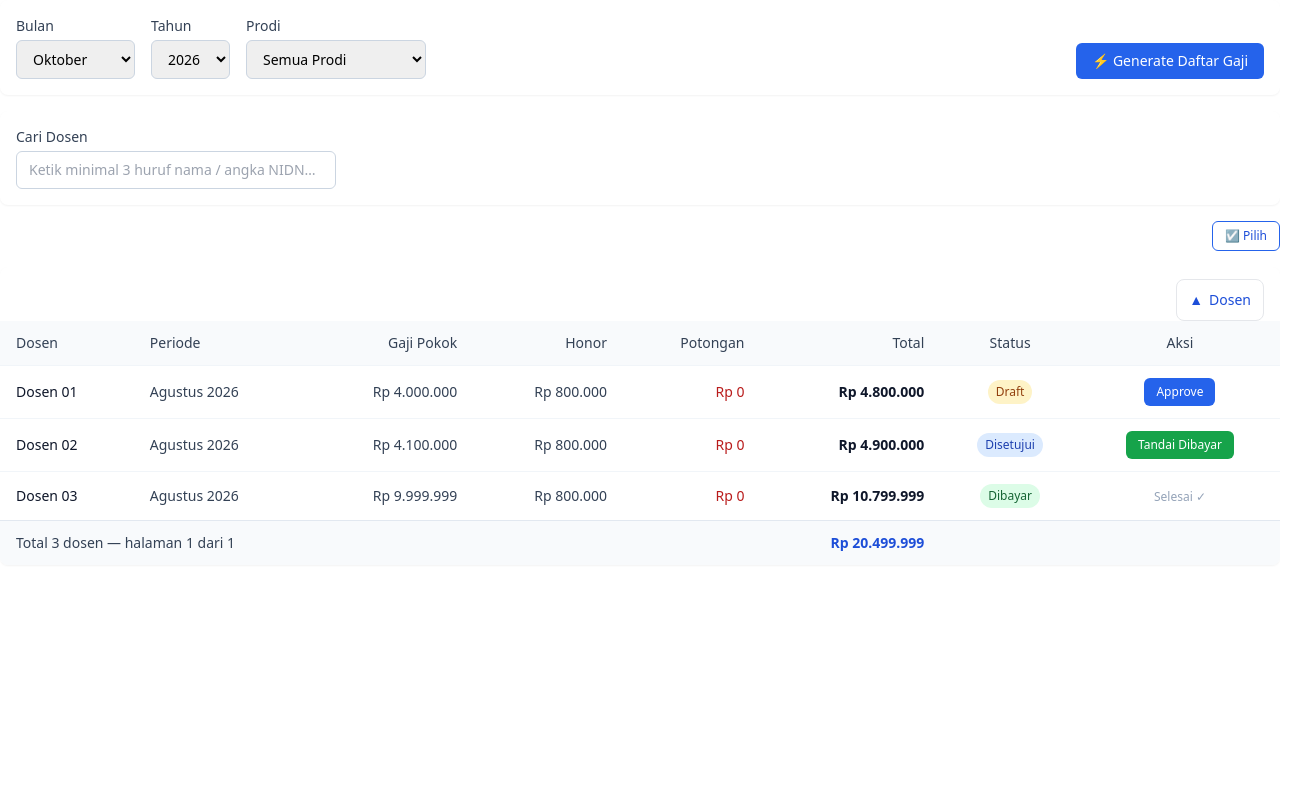
Test: FinancePayrollPage › tombol Generate memanggil API dgn periode bulan terpilih lalu reload
Expected: the text "Dosen 01" is shown, [0,366,134,418]
Step 1. Click the button "⚡ Generate Daftar Gaji" → (1170, 61), box [1076,43,1264,79]
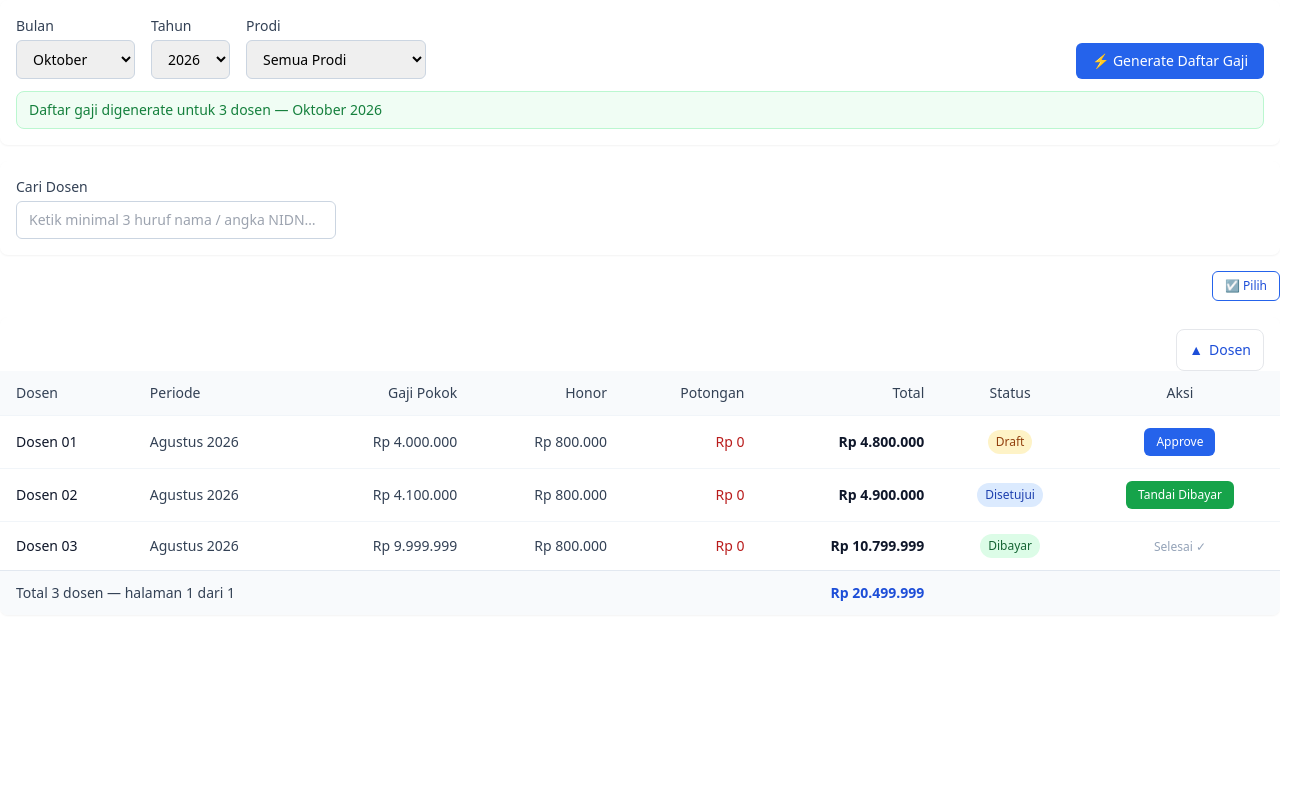
Expected: the message shows "3 dosen", [29,100,382,119]
